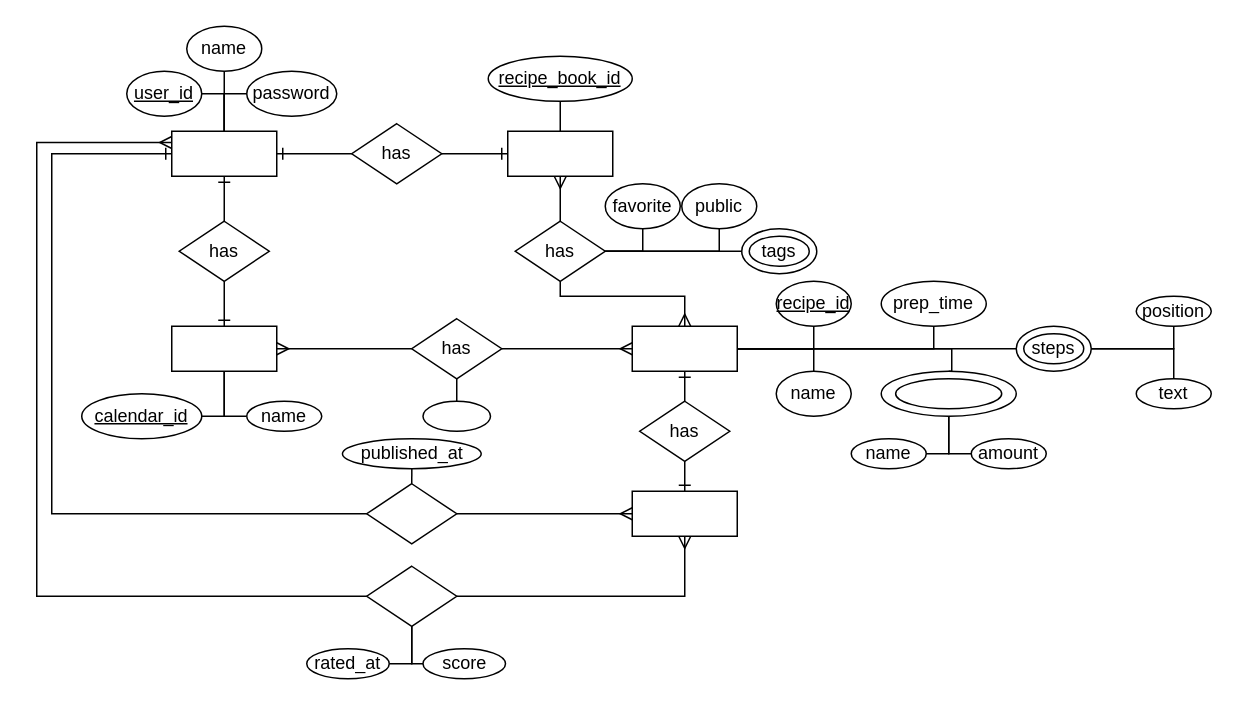
The diagram is 1238 pixels wide and 705 high, and some of its shapes have lost their labels. Each missing label, with the box of its shape:
Calendar: (170, 325, 277, 371)
date: (422, 400, 490, 431)
Feed: (631, 490, 737, 536)
ingredients: (894, 377, 1002, 409)
publish: (365, 482, 457, 544)
rates: (365, 565, 457, 626)
Recipe: (631, 325, 737, 371)
Recipe Book: (506, 130, 613, 176)
User: (170, 130, 277, 176)
